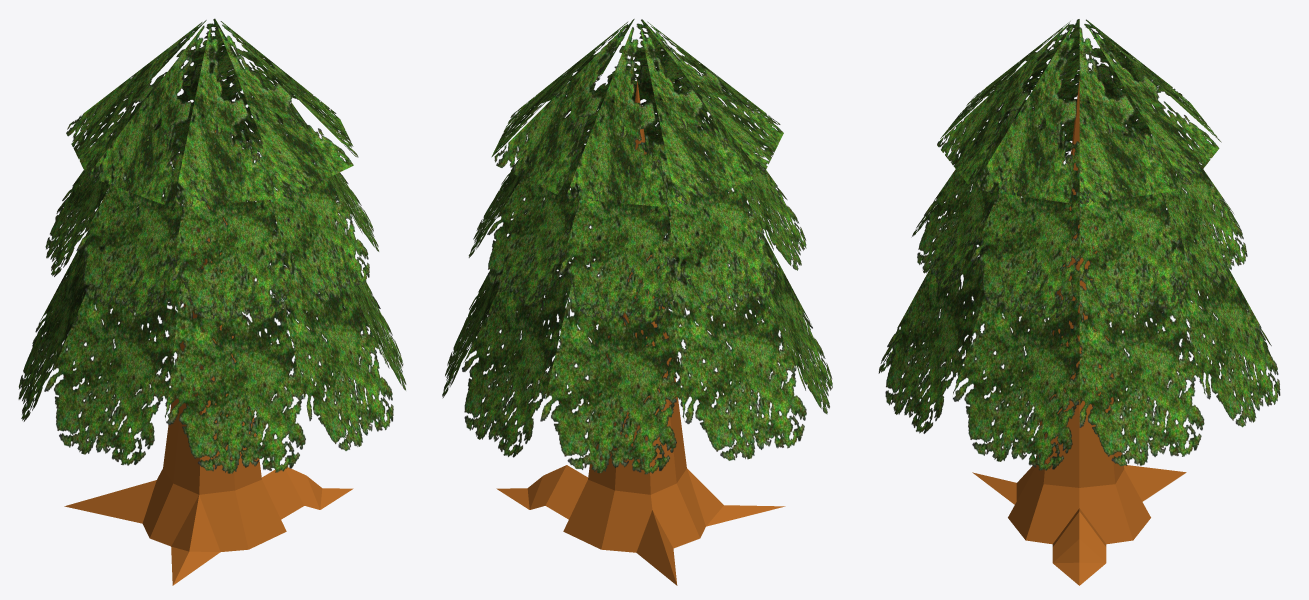
File: sTree_2.glb
The picture shows the model from 3 angles, left to right: view 1: azimuth 30°, elevation 25°; view 2: azimuth 150°, elevation 25°; view 3: azimuth 270°, elevation 25°; orthographic projection.
Visible parts, largest first — view 1: tree2; view 2: tree2; view 3: tree2.
Boxes of the visible parts, x1,y1,x2,y2 form: tree2: (18, 18, 406, 585); tree2: (442, 19, 832, 585); tree2: (878, 19, 1280, 585).
Size of the model in its own units: 1.8 by 2.33 by 1.8.
2 materials, 1 textured.
